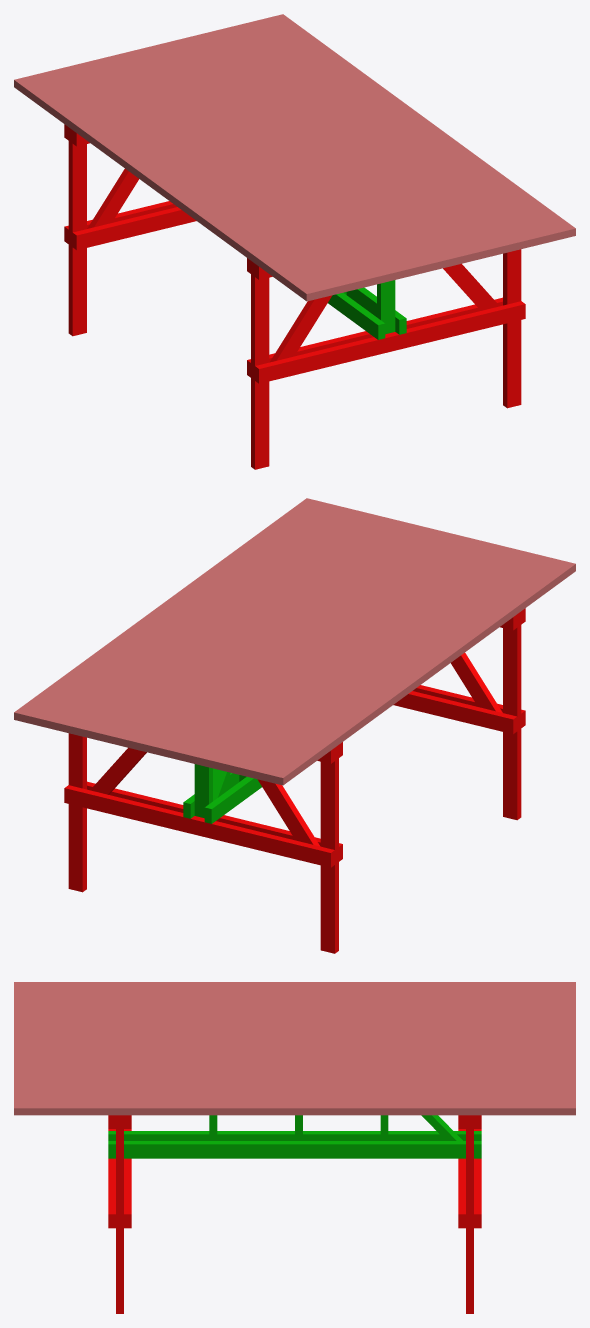
Rendered from result.glb.
The picture shows the model from 3 angles, top to bottom: view 1: azimuth 30°, elevation 25°; view 2: azimuth 150°, elevation 25°; view 3: azimuth 270°, elevation 25°; orthographic projection. The views are drawn at different scales.
Visible parts, largest first — view 1: d53c5300-4d39-4684-9622-a0f27bd75a03__Box, 3374151f-e7eb-497a-b4e2-a47a5c9fc5eb__sideH, 307ad6b5-e9ba-4228-9106-43024f5cb46b__undefined, 303d4ec5-1da4-4174-80cb-237fb1c6e818__undefined, e0dbc454-37ee-4d7a-88b5-ff203deccf8a__undefined, 81ca59d9-4392-4f62-a589-f58ef91426ed__undefined, 4ca0132d-3212-4c7a-b14f-015e3d26623d__undefined, bef46093-1225-415b-ada4-5edad9bc233f__undefined, 66f9ee0f-e1b5-43b9-ab4f-90fddcc22704__undefined, cabb95a7-b7da-4eec-9f6a-714148ed646d__undefined, 61aaf0a6-f4fd-402d-8662-6e275019a40a__undefined, 4039c7c5-3480-411d-adfa-f2b75e065d8e__undefined (+20 smaller); view 2: d53c5300-4d39-4684-9622-a0f27bd75a03__Box, 976ff217-cb73-42a6-983b-ceb1bc3f1223__undefined, 307ad6b5-e9ba-4228-9106-43024f5cb46b__undefined, 303d4ec5-1da4-4174-80cb-237fb1c6e818__undefined, e0dbc454-37ee-4d7a-88b5-ff203deccf8a__undefined, 81ca59d9-4392-4f62-a589-f58ef91426ed__undefined, 4ca0132d-3212-4c7a-b14f-015e3d26623d__undefined, bef46093-1225-415b-ada4-5edad9bc233f__undefined, 66f9ee0f-e1b5-43b9-ab4f-90fddcc22704__undefined, cabb95a7-b7da-4eec-9f6a-714148ed646d__undefined, 61aaf0a6-f4fd-402d-8662-6e275019a40a__undefined, 4039c7c5-3480-411d-adfa-f2b75e065d8e__undefined (+19 smaller); view 3: 4ca0132d-3212-4c7a-b14f-015e3d26623d__undefined, 75cbcd63-81c8-4ad5-904f-c512ff454e8f__strutH, 66da667b-2c6d-4bbe-9f66-e446a028f2d1__undefined, e0dbc454-37ee-4d7a-88b5-ff203deccf8a__undefined, 354f6b95-af46-41da-a4e7-4b47708b3db6__undefined, 66f9ee0f-e1b5-43b9-ab4f-90fddcc22704__undefined, cabb95a7-b7da-4eec-9f6a-714148ed646d__undefined, d53c5300-4d39-4684-9622-a0f27bd75a03__Box, 61aaf0a6-f4fd-402d-8662-6e275019a40a__undefined, 303d4ec5-1da4-4174-80cb-237fb1c6e818__undefined, 9267a5c1-a2a5-43d1-8f44-c0e05dc5629b__undefined, 307ad6b5-e9ba-4228-9106-43024f5cb46b__undefined (+16 smaller).
Boxes of the visible parts, x1,y1,x2,y2 form: d53c5300-4d39-4684-9622-a0f27bd75a03__Box: (14, 76, 320, 301); 3374151f-e7eb-497a-b4e2-a47a5c9fc5eb__sideH: (255, 301, 525, 383); 307ad6b5-e9ba-4228-9106-43024f5cb46b__undefined: (99, 55, 405, 280); 303d4ec5-1da4-4174-80cb-237fb1c6e818__undefined: (57, 66, 363, 290); e0dbc454-37ee-4d7a-88b5-ff203deccf8a__undefined: (71, 62, 377, 287); 81ca59d9-4392-4f62-a589-f58ef91426ed__undefined: (142, 45, 448, 270); 4ca0132d-3212-4c7a-b14f-015e3d26623d__undefined: (269, 14, 575, 239); bef46093-1225-415b-ada4-5edad9bc233f__undefined: (170, 38, 476, 263); 66f9ee0f-e1b5-43b9-ab4f-90fddcc22704__undefined: (184, 35, 490, 259); cabb95a7-b7da-4eec-9f6a-714148ed646d__undefined: (227, 24, 533, 249); 61aaf0a6-f4fd-402d-8662-6e275019a40a__undefined: (43, 69, 349, 294); 4039c7c5-3480-411d-adfa-f2b75e065d8e__undefined: (241, 21, 547, 246); d53c5300-4d39-4684-9622-a0f27bd75a03__Box: (269, 560, 575, 785); 976ff217-cb73-42a6-983b-ceb1bc3f1223__undefined: (64, 785, 334, 867); 307ad6b5-e9ba-4228-9106-43024f5cb46b__undefined: (184, 539, 490, 764); 303d4ec5-1da4-4174-80cb-237fb1c6e818__undefined: (226, 550, 532, 774); e0dbc454-37ee-4d7a-88b5-ff203deccf8a__undefined: (212, 546, 518, 771); 81ca59d9-4392-4f62-a589-f58ef91426ed__undefined: (141, 529, 447, 754); 4ca0132d-3212-4c7a-b14f-015e3d26623d__undefined: (14, 498, 320, 723); bef46093-1225-415b-ada4-5edad9bc233f__undefined: (113, 522, 419, 747); 66f9ee0f-e1b5-43b9-ab4f-90fddcc22704__undefined: (99, 519, 405, 743); cabb95a7-b7da-4eec-9f6a-714148ed646d__undefined: (56, 508, 362, 733); 61aaf0a6-f4fd-402d-8662-6e275019a40a__undefined: (240, 553, 546, 778); 4039c7c5-3480-411d-adfa-f2b75e065d8e__undefined: (42, 505, 348, 730); 4ca0132d-3212-4c7a-b14f-015e3d26623d__undefined: (14, 1101, 575, 1115); 75cbcd63-81c8-4ad5-904f-c512ff454e8f__strutH: (108, 1141, 481, 1158); 66da667b-2c6d-4bbe-9f66-e446a028f2d1__undefined: (14, 988, 575, 995); e0dbc454-37ee-4d7a-88b5-ff203deccf8a__undefined: (14, 1008, 575, 1015); 354f6b95-af46-41da-a4e7-4b47708b3db6__undefined: (14, 1028, 575, 1035); 66f9ee0f-e1b5-43b9-ab4f-90fddcc22704__undefined: (14, 1061, 575, 1068); cabb95a7-b7da-4eec-9f6a-714148ed646d__undefined: (14, 1081, 575, 1088); d53c5300-4d39-4684-9622-a0f27bd75a03__Box: (14, 982, 575, 988); 61aaf0a6-f4fd-402d-8662-6e275019a40a__undefined: (14, 995, 575, 1001); 303d4ec5-1da4-4174-80cb-237fb1c6e818__undefined: (14, 1002, 575, 1008); 9267a5c1-a2a5-43d1-8f44-c0e05dc5629b__undefined: (14, 1015, 575, 1021); 307ad6b5-e9ba-4228-9106-43024f5cb46b__undefined: (14, 1022, 575, 1028).
Size of the model in its own units: 950 by 725 by 1790.
